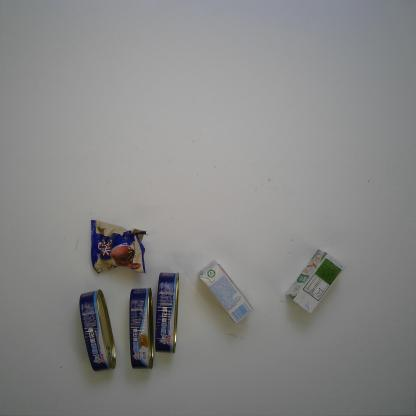Canned Food: (79, 289, 117, 372), (154, 272, 180, 354), (128, 288, 154, 370)
Dessert: (90, 219, 148, 274)
Milk: (285, 248, 346, 314), (198, 260, 254, 324)
